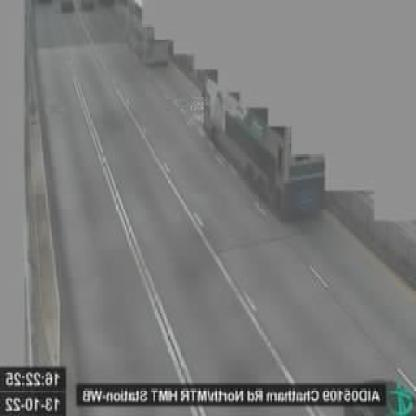Bus: (202, 70, 322, 215), (123, 0, 167, 69)
